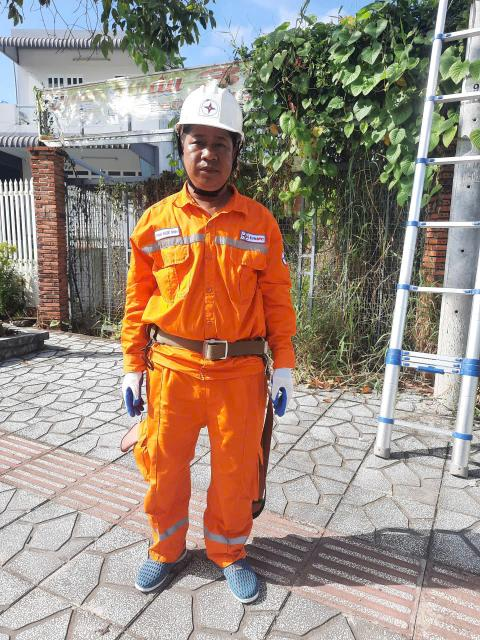gloves: (252, 360, 303, 418), (114, 362, 156, 417)
harness: (126, 309, 283, 375)
helmet: (179, 76, 249, 139)
shoes: (126, 525, 196, 592), (210, 537, 268, 609)
